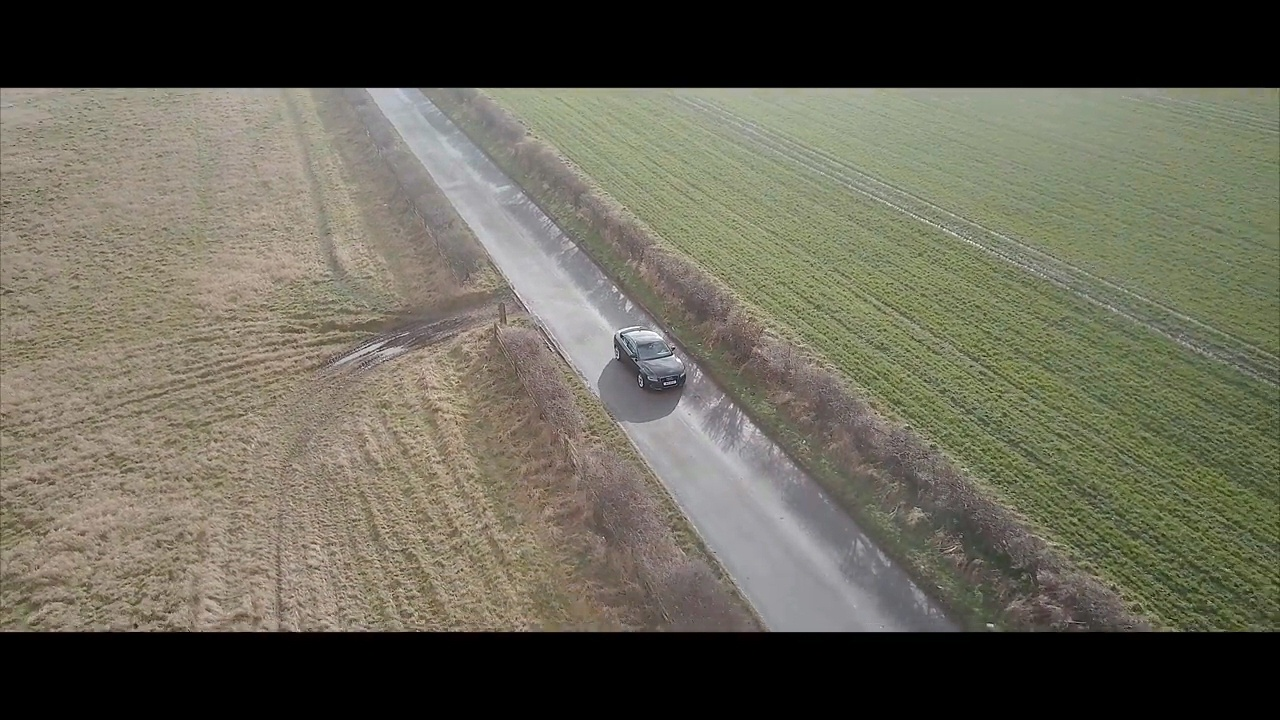araba: (608, 323, 692, 392)
